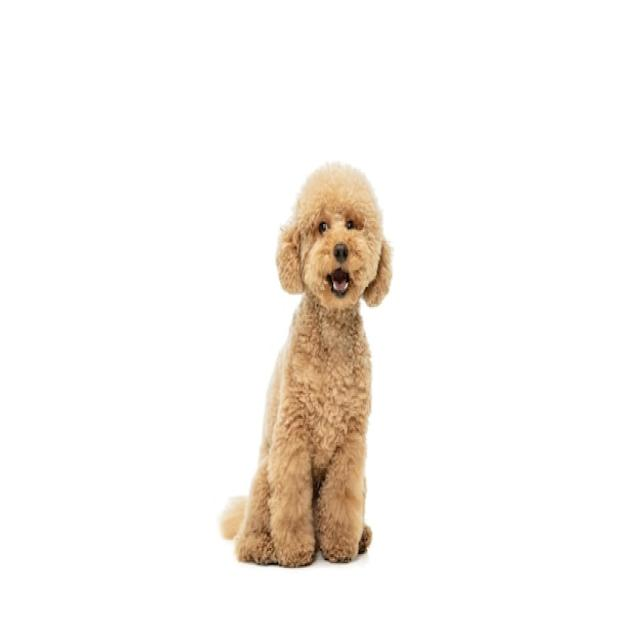Dog: (220, 163, 392, 568)
